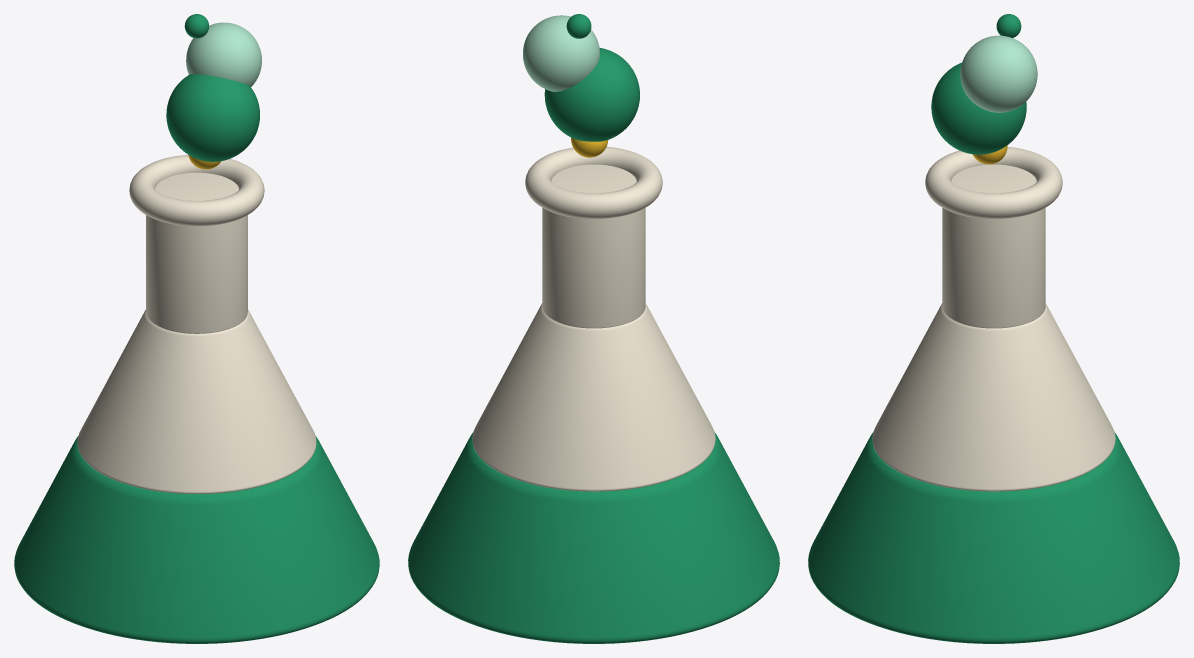
The model's file is high_school-chemistry.glb.
3 renders of one model, left to right at view 1: azimuth 30°, elevation 25°; view 2: azimuth 150°, elevation 25°; view 3: azimuth 270°, elevation 25°, orthographic.
Parts seen in each view (by area): view 1: Cone, Cone.001, Cylinder, part-bubble-0, Torus, part-bubble-2; view 2: Cone, Cone.001, Cylinder, Torus, part-bubble-0, part-bubble-2; view 3: Cone, Cone.001, Cylinder, Torus, part-bubble-2, part-bubble-0.
Part boxes in pixels (x1,y1,x2,y2): Cone: (14, 436, 379, 643); Cone.001: (77, 309, 316, 493); Cylinder: (146, 172, 247, 333); part-bubble-0: (166, 74, 259, 161); Torus: (129, 155, 264, 226); part-bubble-2: (186, 22, 261, 86); Cone: (408, 432, 779, 643); Cone.001: (472, 303, 715, 491); Cylinder: (542, 164, 645, 328); Torus: (525, 146, 662, 218); part-bubble-0: (544, 48, 639, 141); part-bubble-2: (523, 15, 599, 91); Cone: (808, 432, 1179, 643); Cone.001: (872, 303, 1115, 491); Cylinder: (942, 164, 1045, 328); Torus: (925, 147, 1062, 218); part-bubble-2: (960, 35, 1037, 112); part-bubble-0: (931, 62, 1026, 154).
Bounding box in the file's own units: 1.86 × 3.08 × 1.86.
